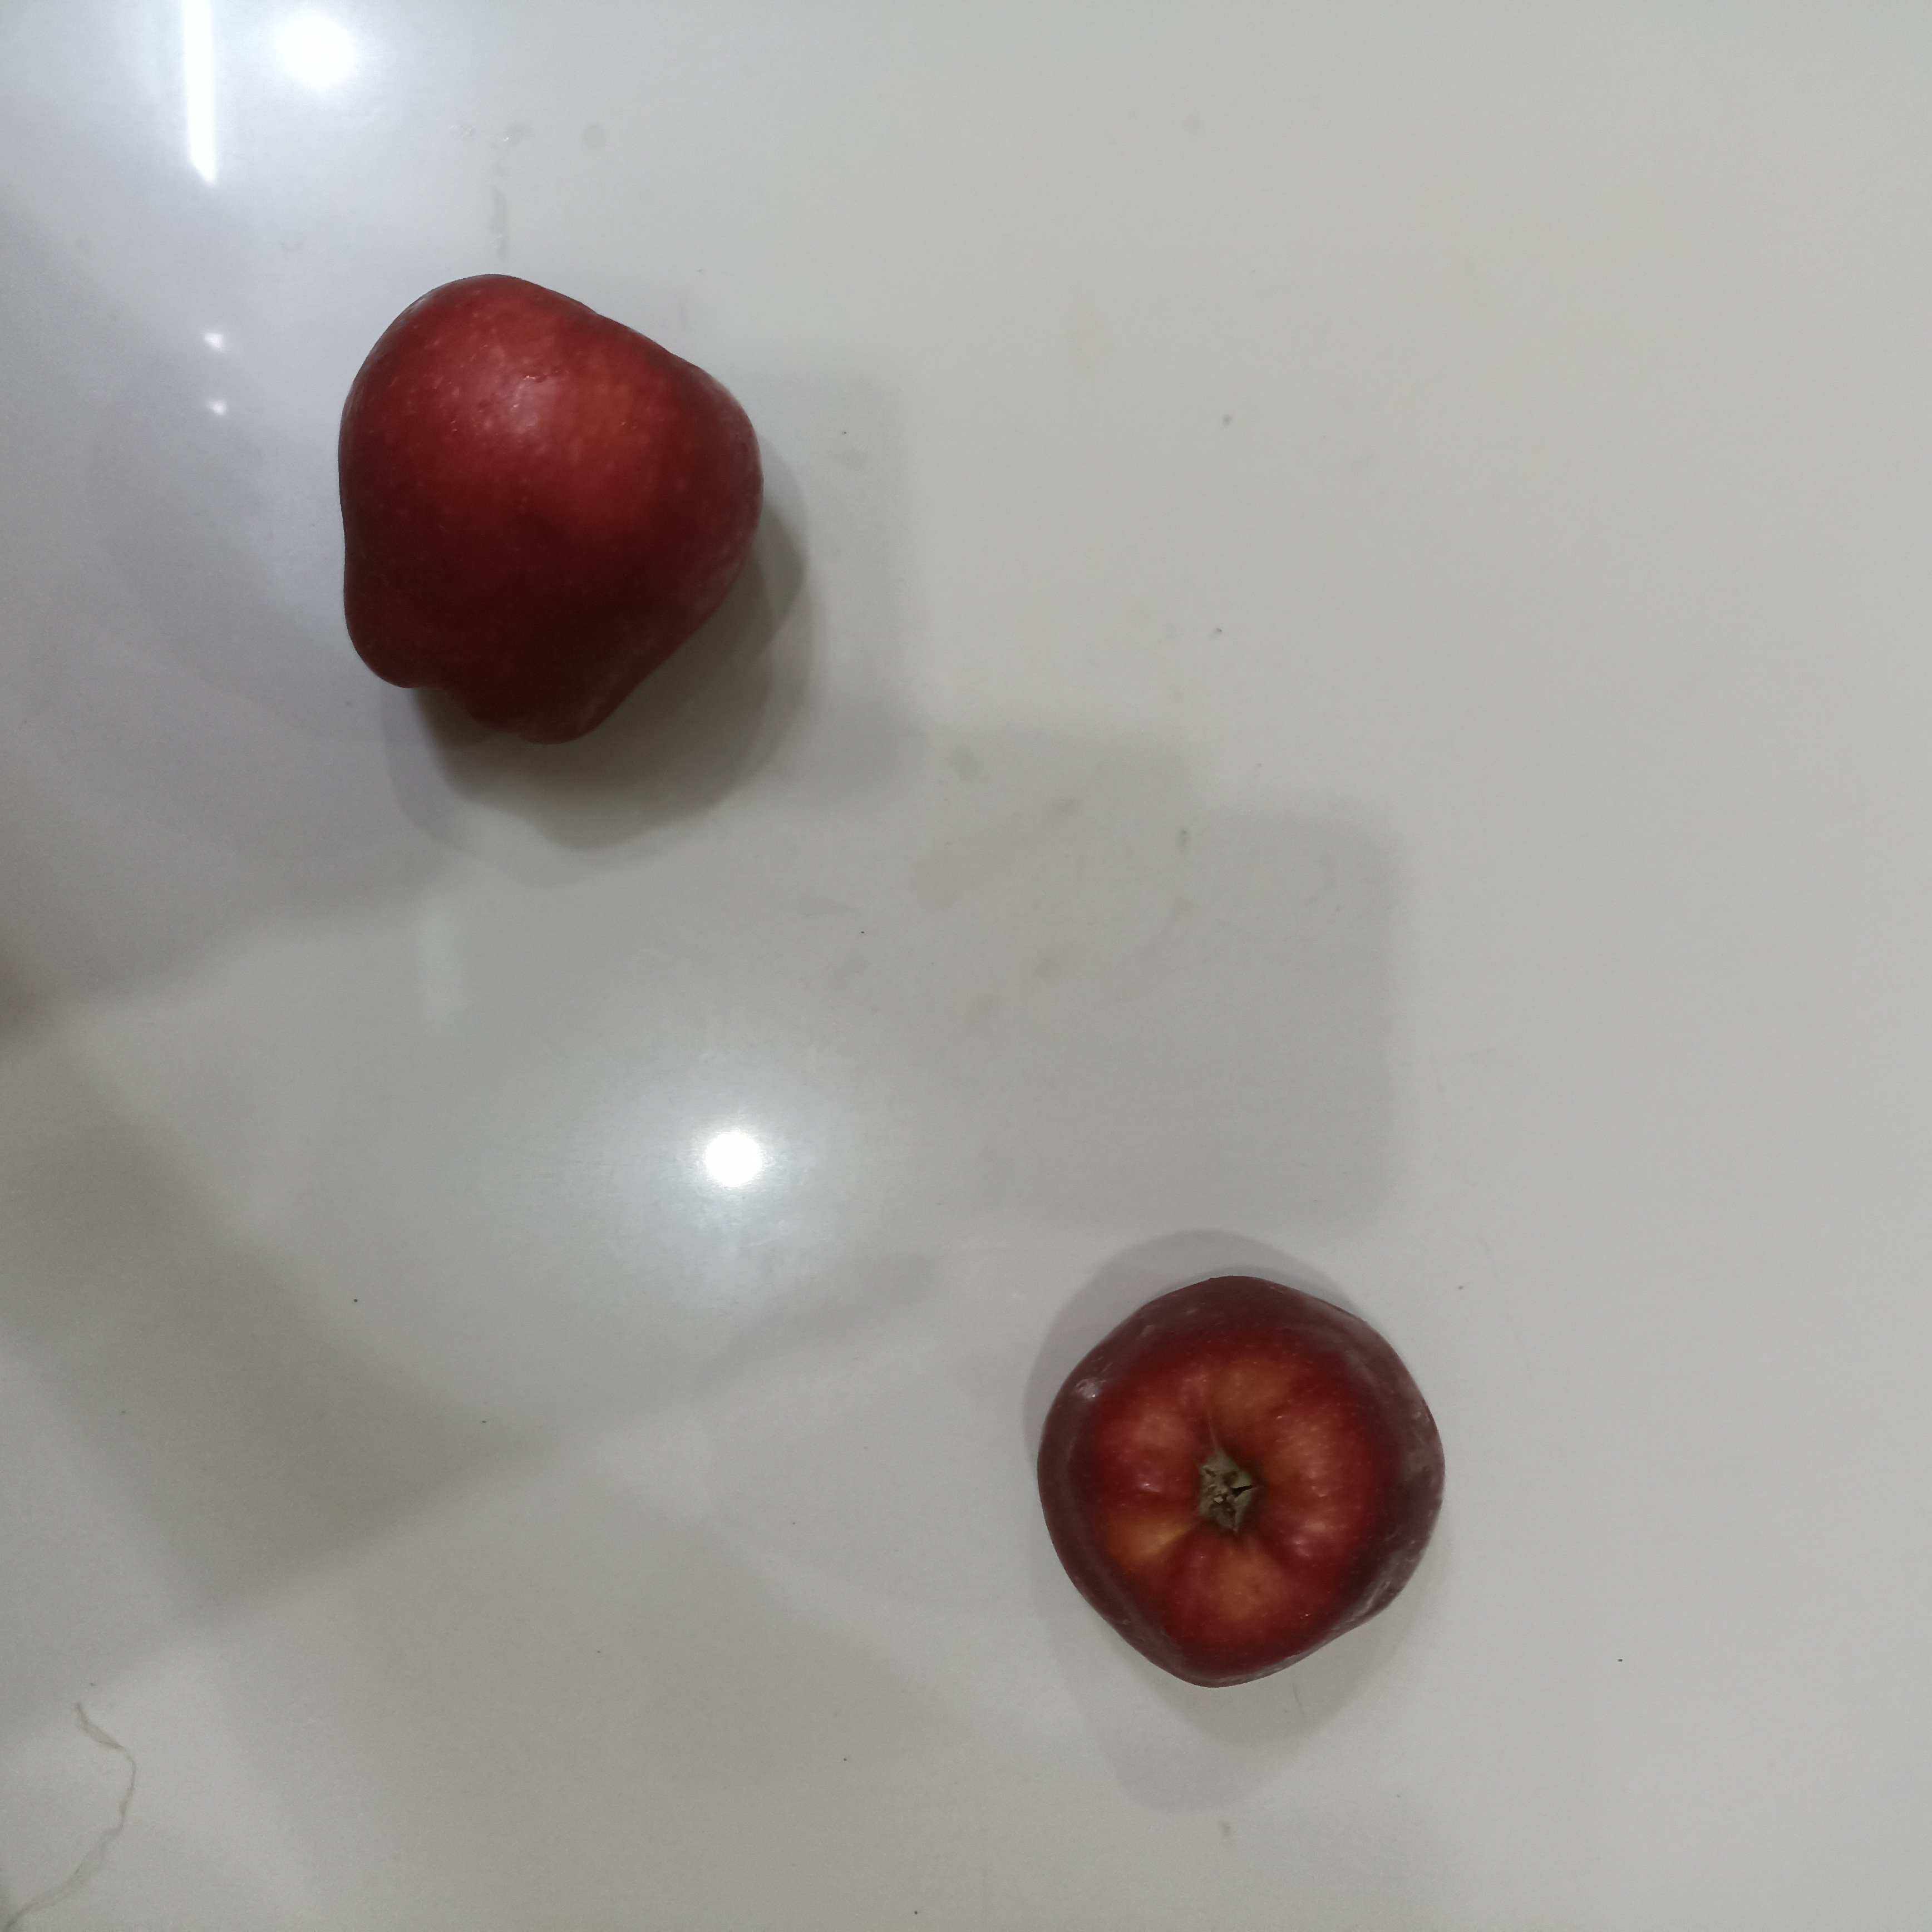Tao do: (338, 274, 750, 745), (1028, 1277, 1449, 1690)
